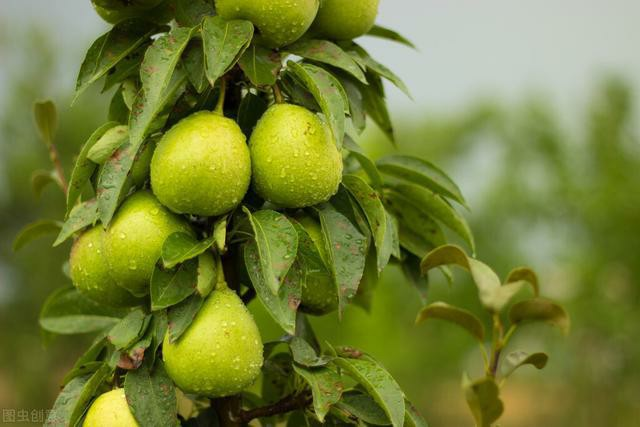pear: (162, 277, 262, 393), (99, 187, 198, 294), (148, 110, 247, 216), (250, 104, 343, 208), (67, 221, 136, 306), (214, 1, 316, 48), (80, 387, 184, 427), (312, 1, 379, 41)
